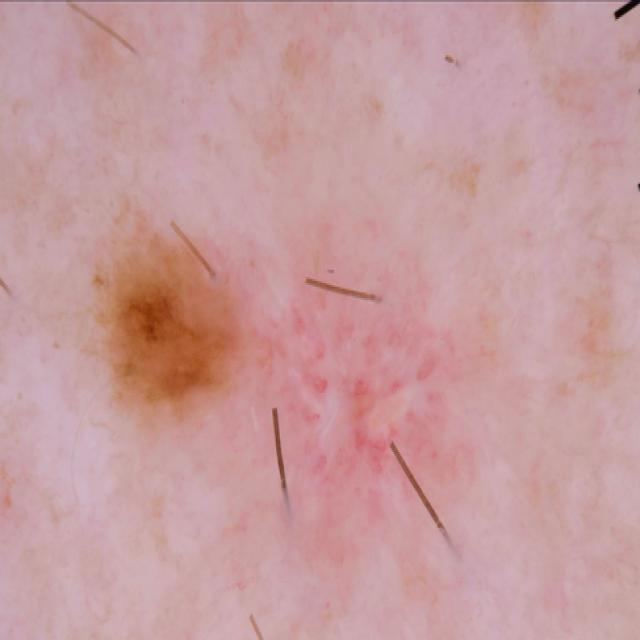Dermatofibroma: (86, 184, 552, 613)
